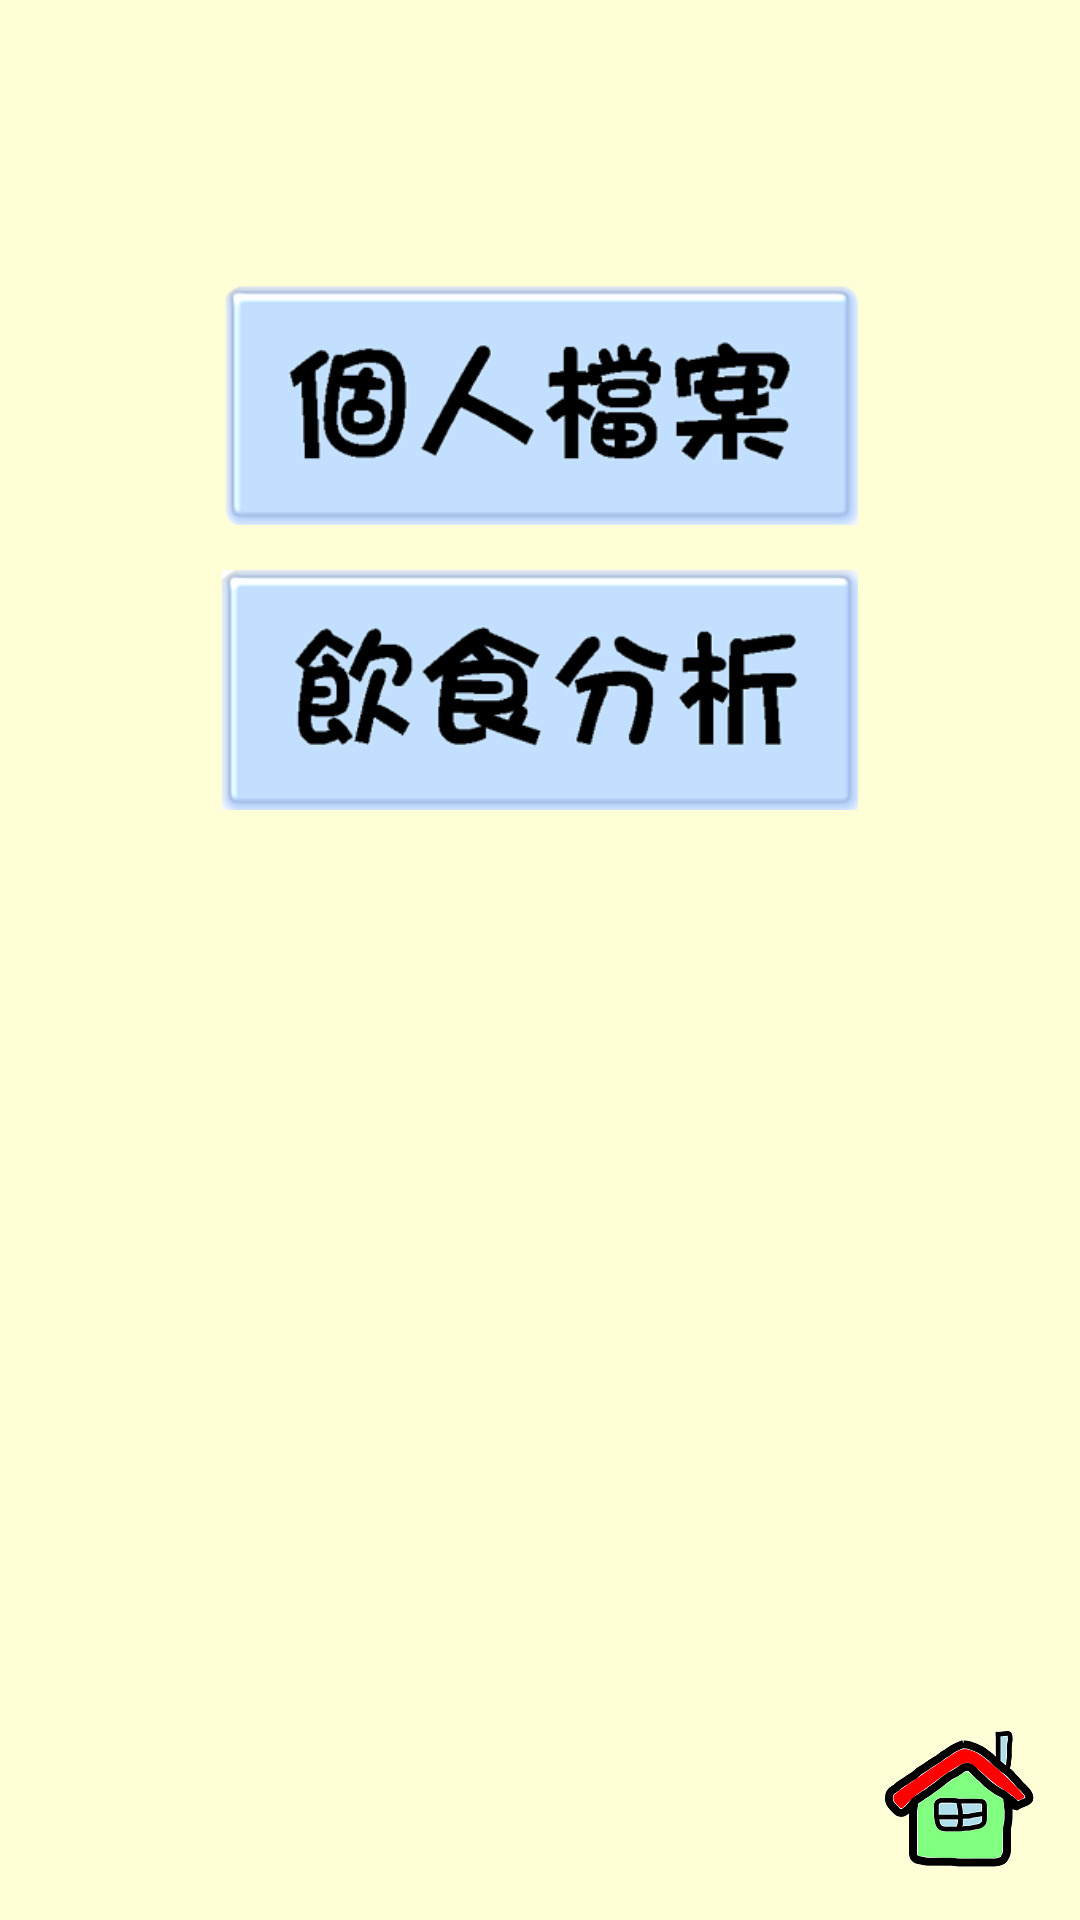

Named icons in this screenshot (1080px×1920px) and their bounding boxes, {"x1": x1, "y1": y1, "x2": x2, "y2": y2}:
home: {"x1": 885, "y1": 1731, "x2": 1034, "y2": 1867}
